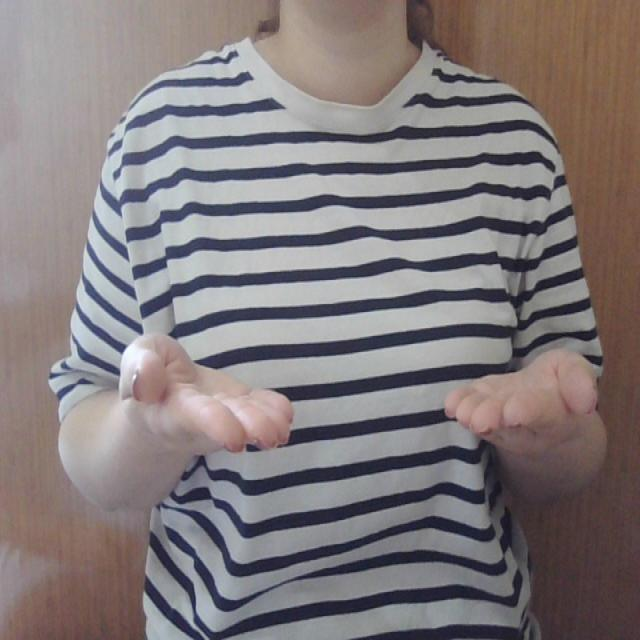Evet: (106, 328, 602, 482)
